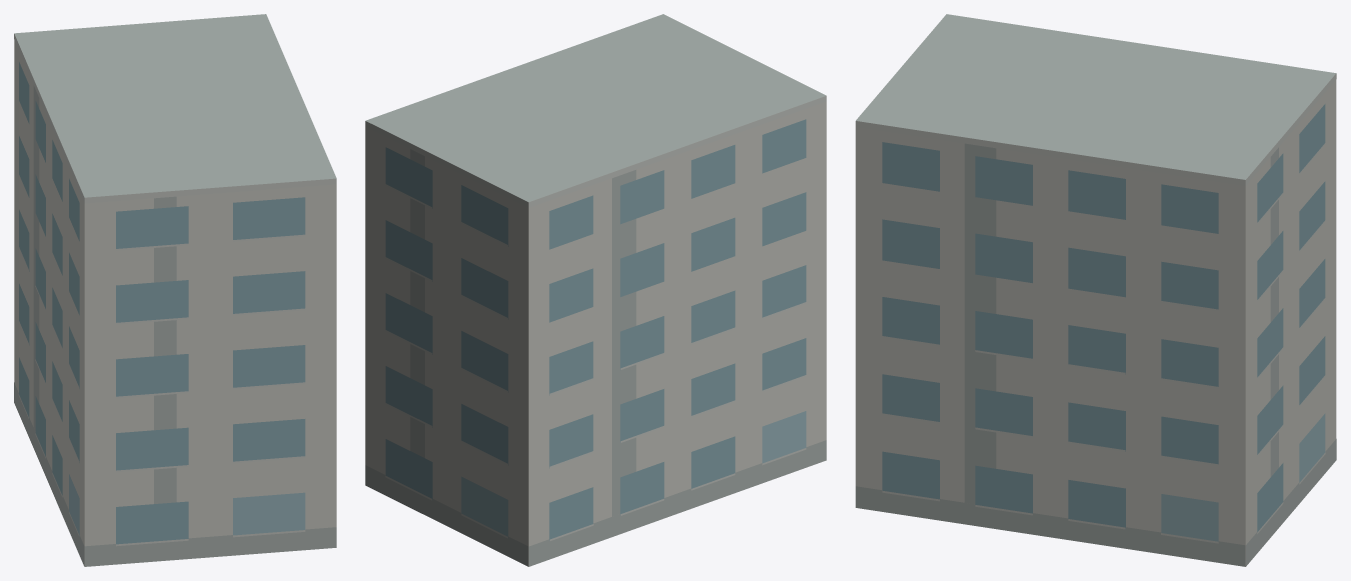
The model's file is residential-4496e7a3-a123-41b5-b4c4-4a2fa026ef90.glb.
3 views of the same model, side by side, from view 1: azimuth 30°, elevation 25°; view 2: azimuth 150°, elevation 25°; view 3: azimuth 270°, elevation 25° (orthographic). The views are drawn at different scales.
Visible parts, largest first — view 1: residential-4496e7a3-a123-41b5-b4c4-4a2fa026ef90.tmp; view 2: residential-4496e7a3-a123-41b5-b4c4-4a2fa026ef90.tmp; view 3: residential-4496e7a3-a123-41b5-b4c4-4a2fa026ef90.tmp.
Boxes of the visible parts, x1=… form: residential-4496e7a3-a123-41b5-b4c4-4a2fa026ef90.tmp: x1=14, y1=14, x2=336, y2=566; residential-4496e7a3-a123-41b5-b4c4-4a2fa026ef90.tmp: x1=365, y1=14, x2=826, y2=566; residential-4496e7a3-a123-41b5-b4c4-4a2fa026ef90.tmp: x1=855, y1=14, x2=1336, y2=566.
Size of the model in its own units: 14.03 by 15.25 by 17.19.
